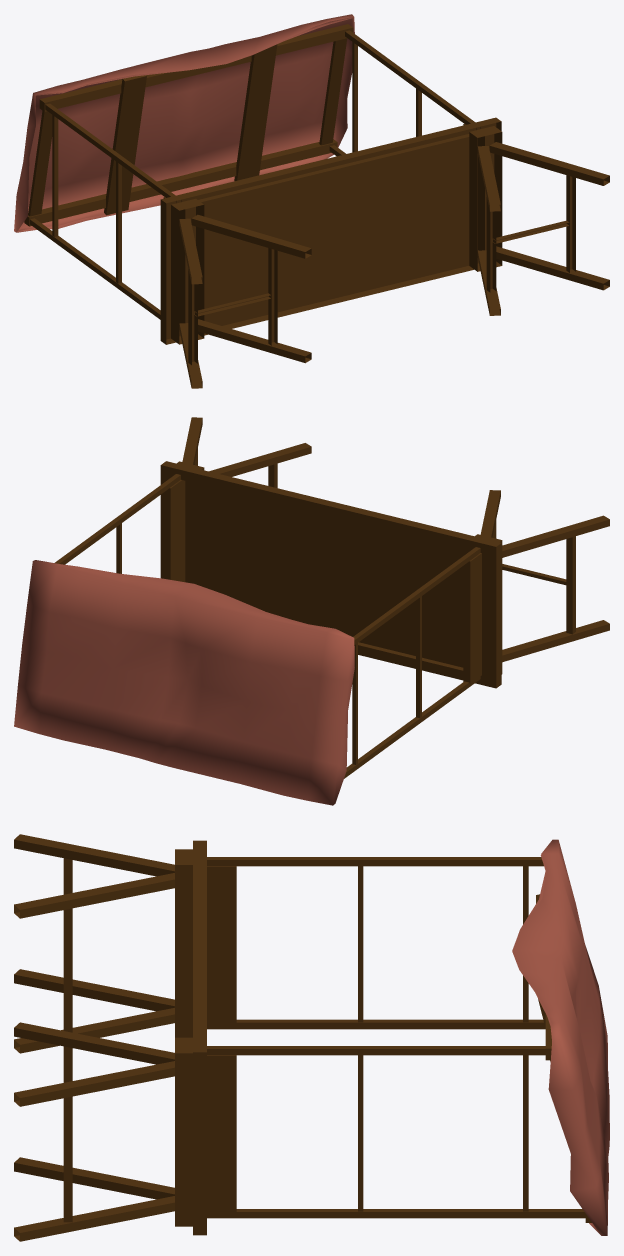
The model's file is Market_Stall.fbx.
3 views of the same model, one above another, from view 1: azimuth 30°, elevation 25°; view 2: azimuth 150°, elevation 25°; view 3: azimuth 270°, elevation 25° (orthographic). The views are drawn at different scales.
Visible parts, largest first — view 1: Cube.044; view 2: Cube.044; view 3: Cube.044.
Boxes of the visible parts, <box> form: Cube.044: <box>14,14,609,388</box>; Cube.044: <box>14,417,609,805</box>; Cube.044: <box>14,834,609,1241</box>.
Size of the model in its own units: 701 by 251 by 669.
